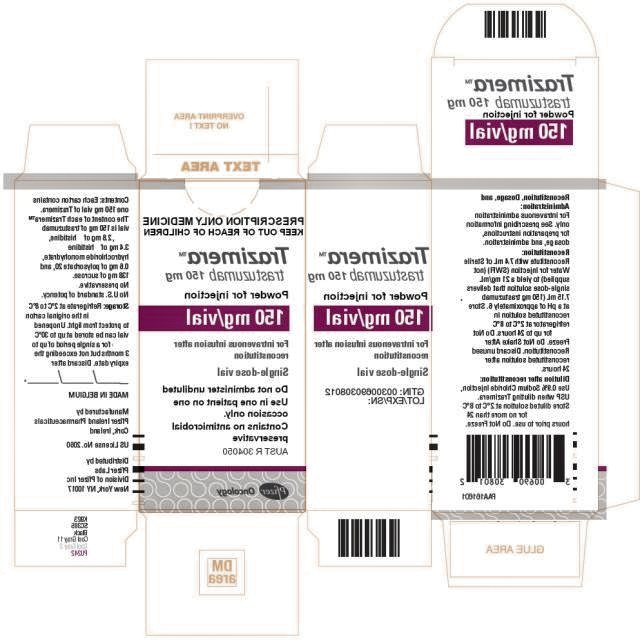Artwork: (0, 0, 640, 640)
Back_Panel: (432, 179, 598, 512)
Bottom_Part: (142, 510, 306, 637)
Extra_Areas: (139, 57, 303, 181), (598, 176, 640, 521), (434, 512, 595, 587), (433, 2, 597, 57), (14, 124, 139, 182), (306, 510, 433, 567), (307, 123, 430, 181), (13, 511, 138, 567)
Front_Panel: (139, 182, 306, 510)
Side_Panel: (307, 180, 432, 510), (14, 181, 138, 511)
Top_Panel: (432, 57, 598, 179)
